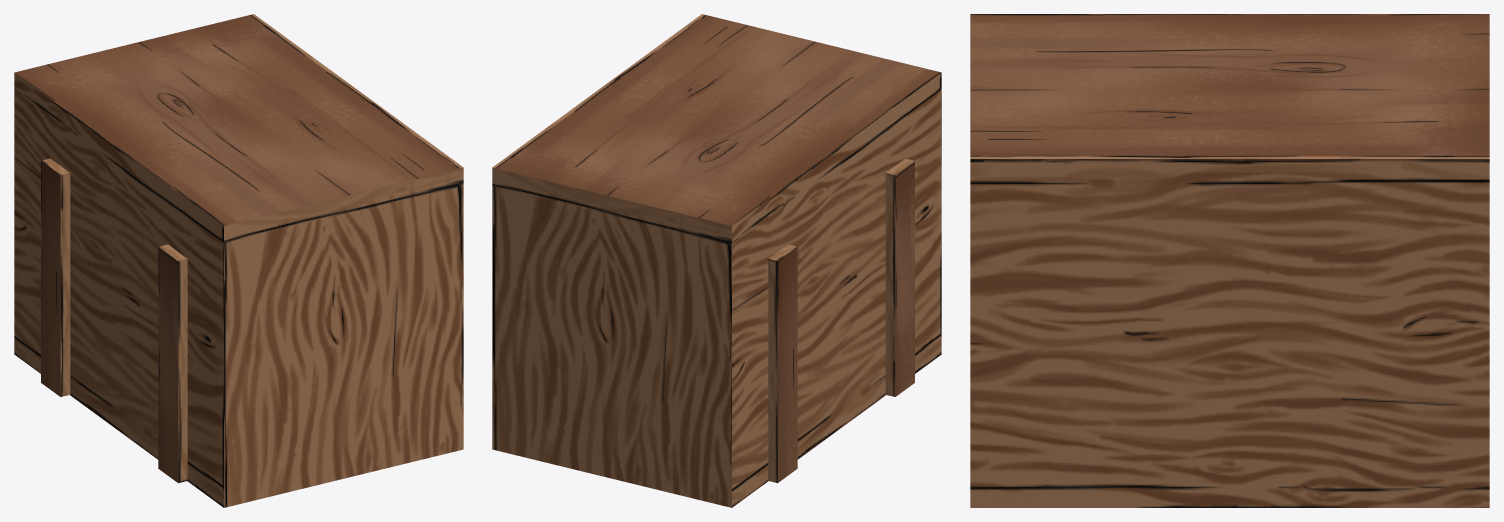
Rendered from Caja-mesaV3.fbx.
3 views of the same model, side by side, from view 1: azimuth 30°, elevation 25°; view 2: azimuth 150°, elevation 25°; view 3: azimuth 270°, elevation 25° (orthographic). The views are drawn at different scales.
Visible parts, largest first — view 1: Cube.013; view 2: Cube.013; view 3: Cube.013.
Part boxes in pixels (box(x1,y1,x2,y2)): Cube.013: box(14, 14, 463, 507); Cube.013: box(492, 14, 941, 507); Cube.013: box(970, 14, 1489, 507).
Size of the model in its own units: 59.21 by 63.98 by 86.28.
